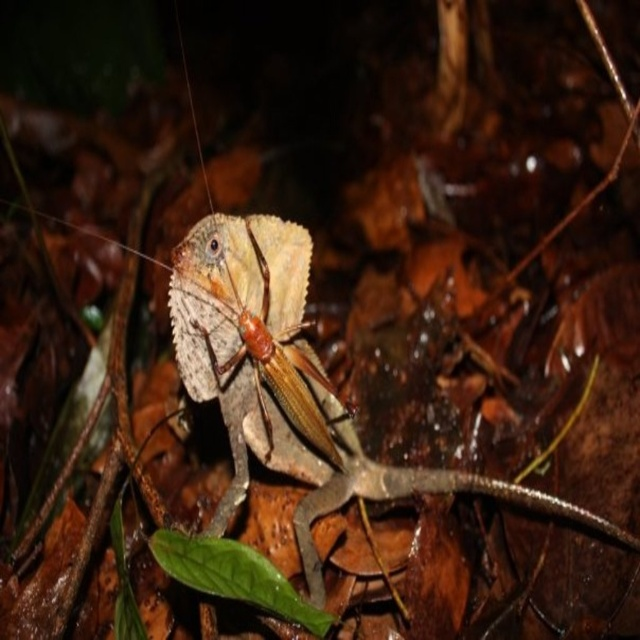Lizard: (166, 210, 636, 613)
